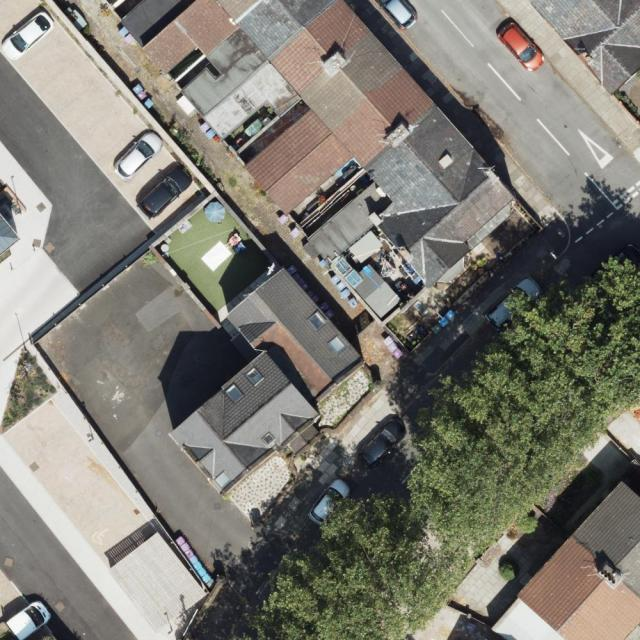roof: (140, 1, 518, 290), (165, 263, 373, 502), (491, 482, 640, 640), (527, 0, 640, 93)
skylight: (243, 363, 267, 388), (223, 382, 247, 404), (305, 310, 329, 332), (326, 332, 347, 354), (260, 432, 279, 452), (213, 470, 232, 485)
